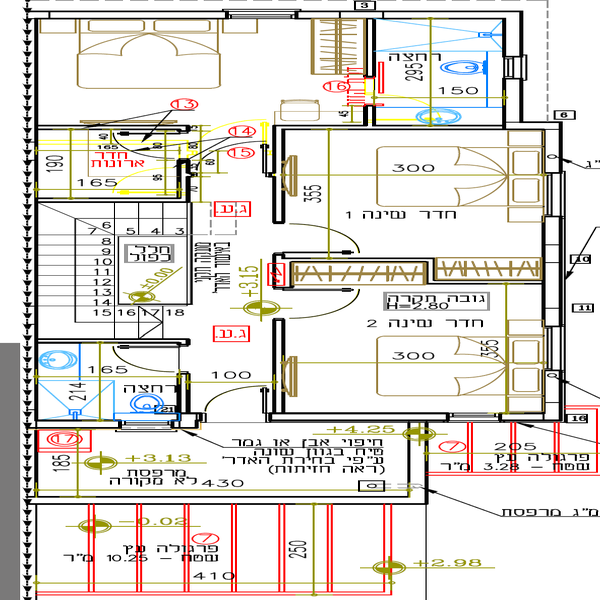door: (265, 207, 364, 262), (273, 279, 367, 324), (114, 335, 195, 382), (204, 375, 272, 425)
room: (275, 117, 564, 420), (28, 1, 529, 126), (37, 114, 197, 430)
wall: (34, 490, 429, 504), (276, 120, 569, 138), (37, 6, 217, 24), (37, 118, 192, 136), (266, 312, 291, 417), (272, 411, 447, 424), (385, 7, 520, 23), (38, 190, 185, 204), (266, 134, 286, 221), (408, 418, 430, 497), (40, 334, 191, 343), (186, 205, 198, 298), (504, 81, 527, 123)
window: (220, 1, 301, 22), (543, 169, 568, 214), (539, 331, 568, 369), (127, 416, 175, 435), (452, 410, 499, 424)
